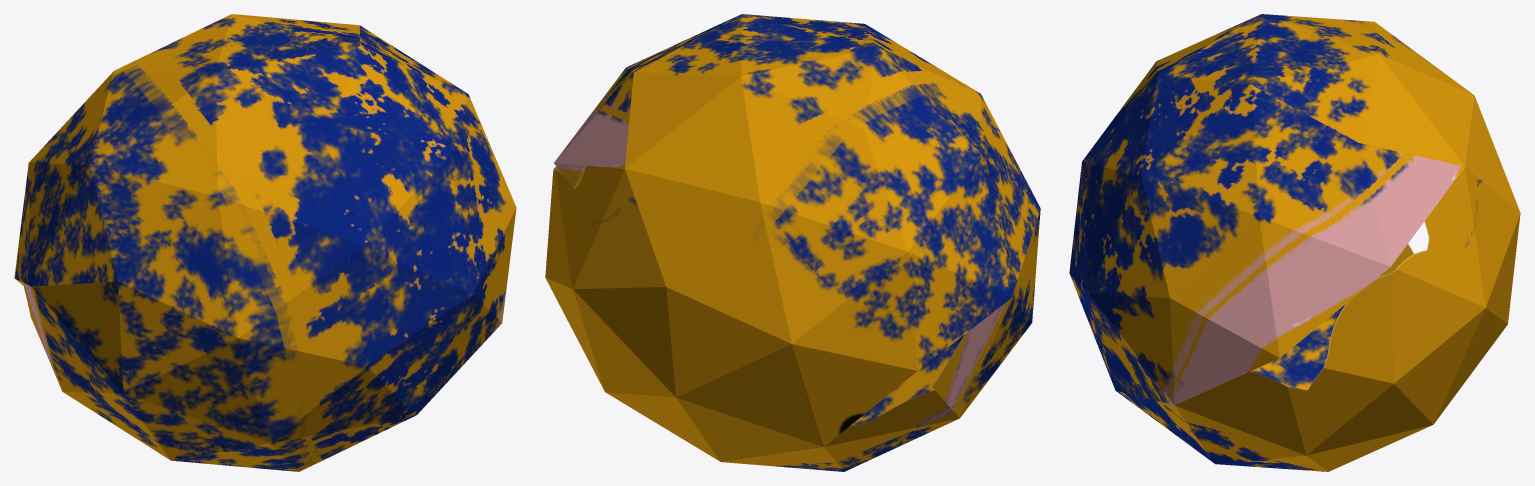
The model's file is roca1 copia.obj.
3 views of the same model, side by side, from view 1: azimuth 30°, elevation 25°; view 2: azimuth 150°, elevation 25°; view 3: azimuth 270°, elevation 25° (orthographic).
Size of the model in its own units: 577 by 484 by 503.
Materials: 1 (1 with a texture image).
